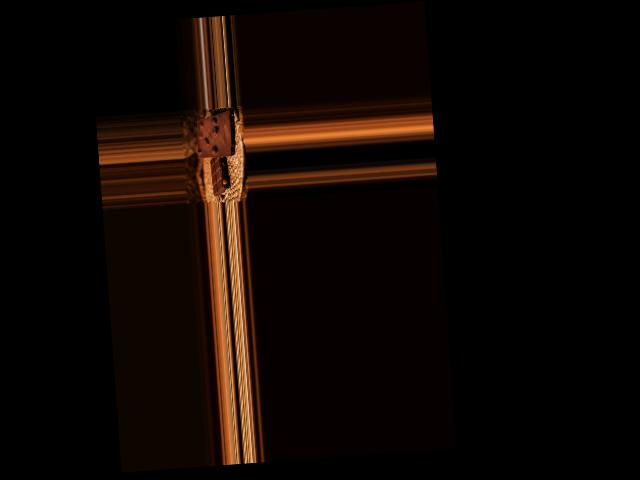chocolate: (193, 109, 236, 161)
